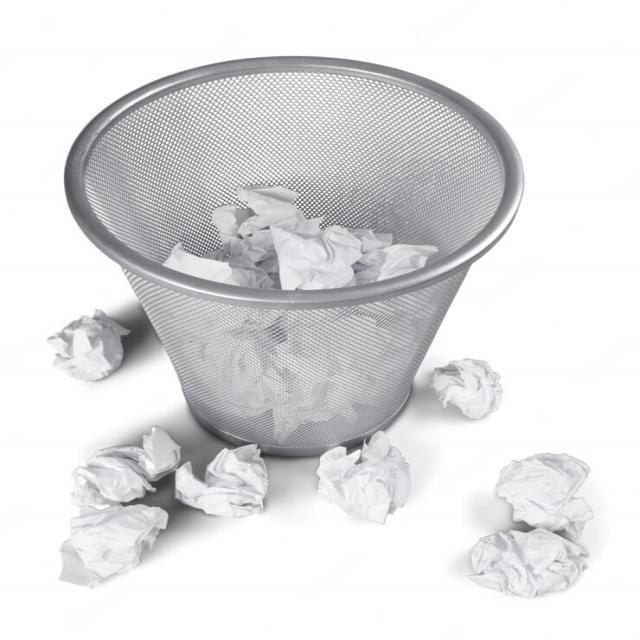metal: (144, 292, 413, 452)
paper: (71, 471, 432, 582), (479, 455, 605, 600), (199, 190, 376, 288), (51, 297, 144, 390), (427, 343, 521, 428)
